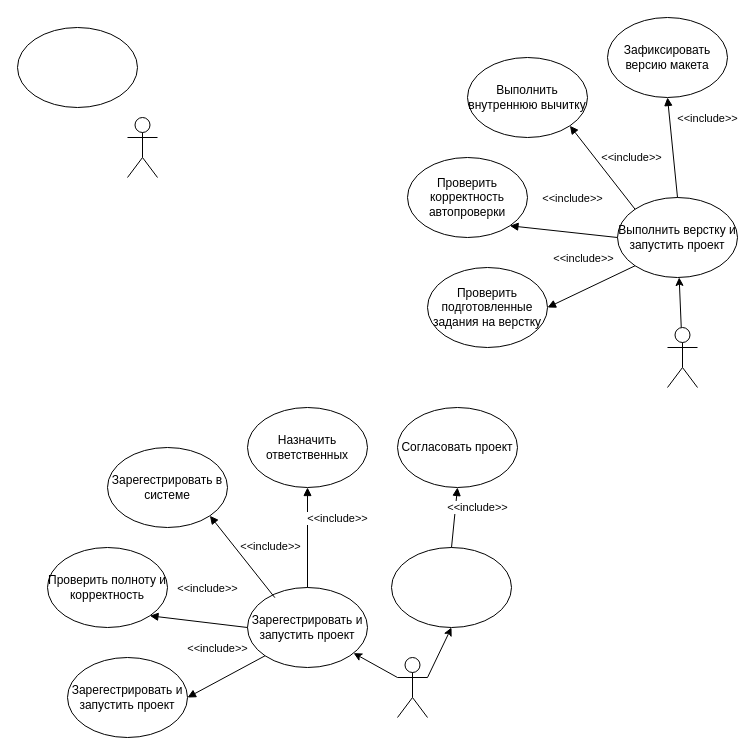
Image size: 756x756. Some labels were removed from this diagram. Here are the shapes that lost their labels. From the top down, the centre of each, then its label:
At pixel 77 67: "Организовать рецензирование и редактуру".
At pixel 142 147: "Редактор".
At pixel 682 357: "Верстальщик".
At pixel 451 587: "Согласовать и выпустить проект".
At pixel 412 687: "Руководитель проектов".
